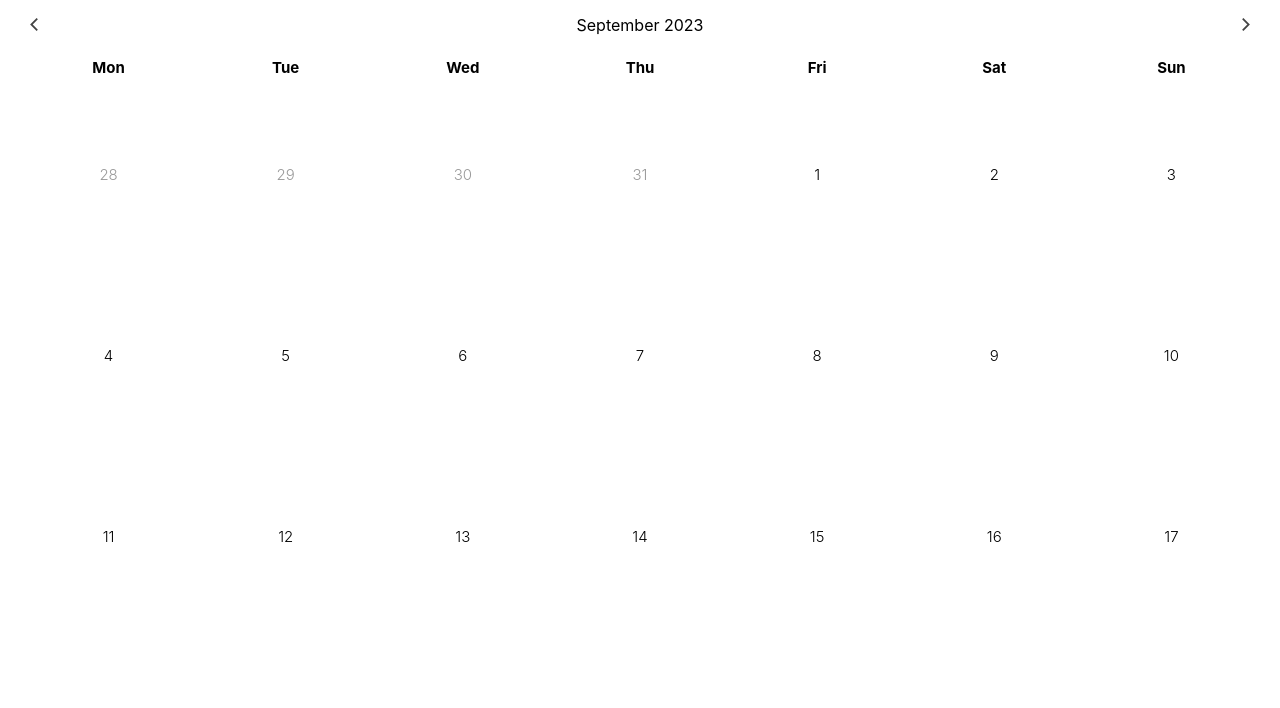
Test: Datetime Calendar › Clicking on previous month should change month value
Click the element with class "navigation--previous": coordinates (34, 24) [30, 18, 38, 31]
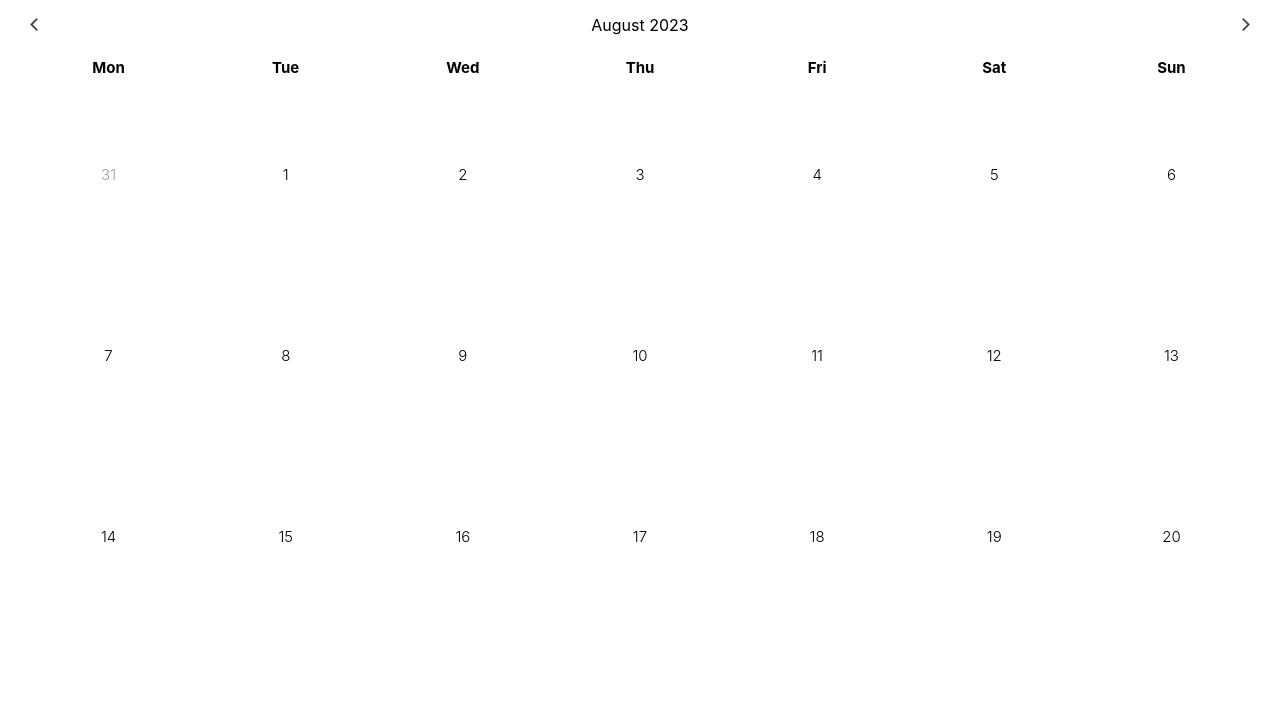
Result: the text with class "current--month" reads "August 2023" at [591, 15, 689, 35]
